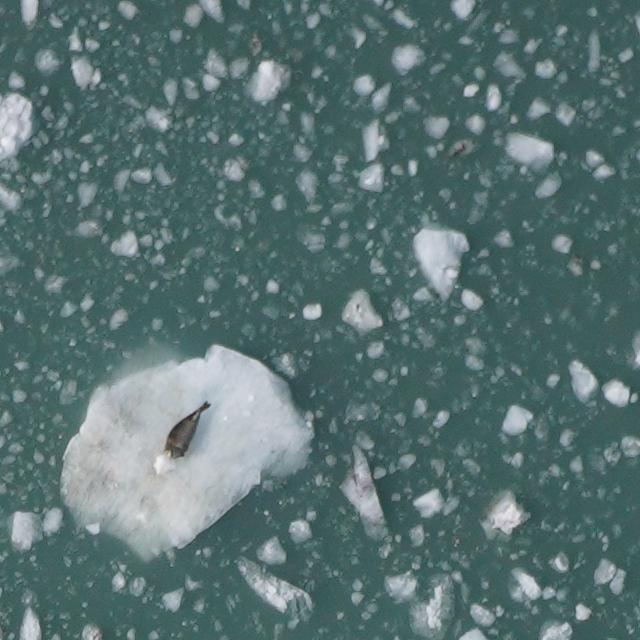seal: (161, 396, 215, 462)
